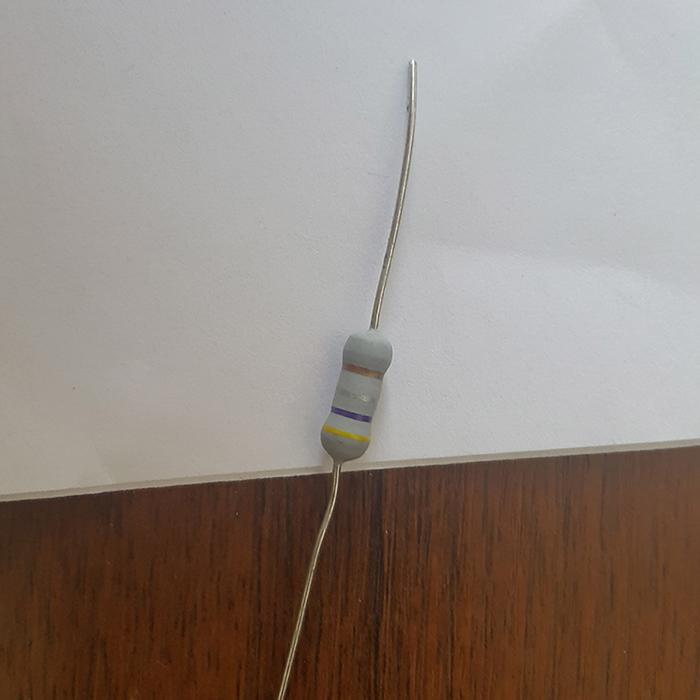resistor: (320, 330, 394, 462)
